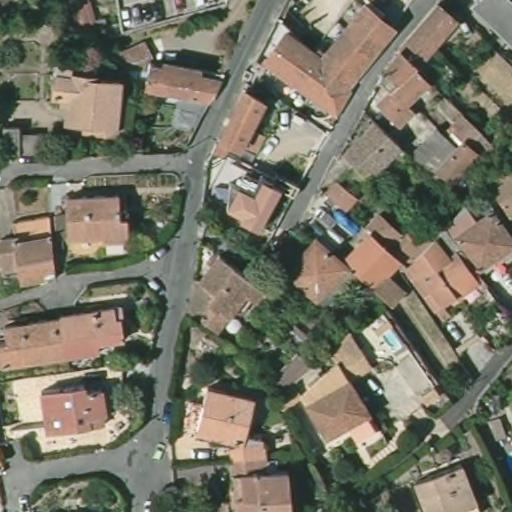pool: (328, 208, 360, 235), (378, 326, 405, 351)
